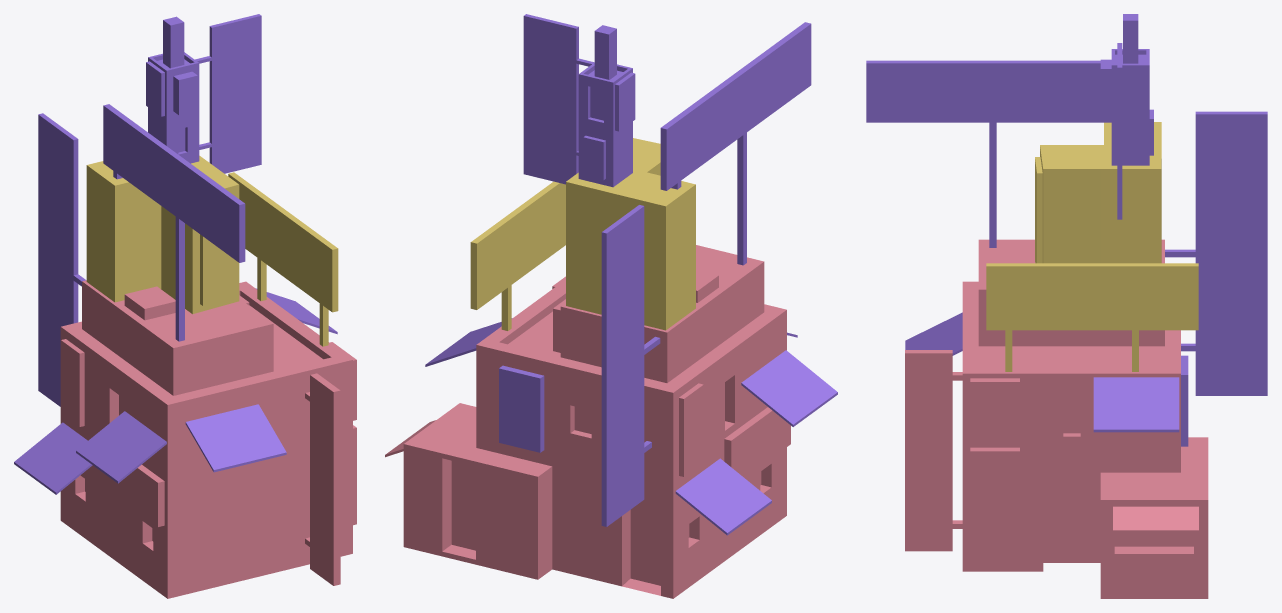
The model's file is 2.Refine_Building.fbx.
3 renders of one model, left to right at view 1: azimuth 30°, elevation 25°; view 2: azimuth 150°, elevation 25°; view 3: azimuth 270°, elevation 25°, orthographic. The views are drawn at different scales.
Parts seen in each view (by area): view 1: L1_Refine_Building, L3_Refine_Building, L2_Refine_Building; view 2: L1_Refine_Building, L3_Refine_Building, L2_Refine_Building; view 3: L1_Refine_Building, L3_Refine_Building, L2_Refine_Building.
Part boxes in pixels (x1=…): L1_Refine_Building: x1=60, y1=280, x2=356, y2=598; L3_Refine_Building: x1=14, y1=14, x2=337, y2=494; L2_Refine_Building: x1=86, y1=155, x2=338, y2=346; L1_Refine_Building: x1=385, y1=245, x2=790, y2=598; L3_Refine_Building: x1=425, y1=14, x2=837, y2=535; L2_Refine_Building: x1=470, y1=138, x2=695, y2=330; L1_Refine_Building: x1=905, y1=239, x2=1208, y2=598; L3_Refine_Building: x1=866, y1=14, x2=1267, y2=446; L2_Refine_Building: x1=986, y1=122, x2=1198, y2=371.
Size of the model in its own units: 336 by 512 by 368.
